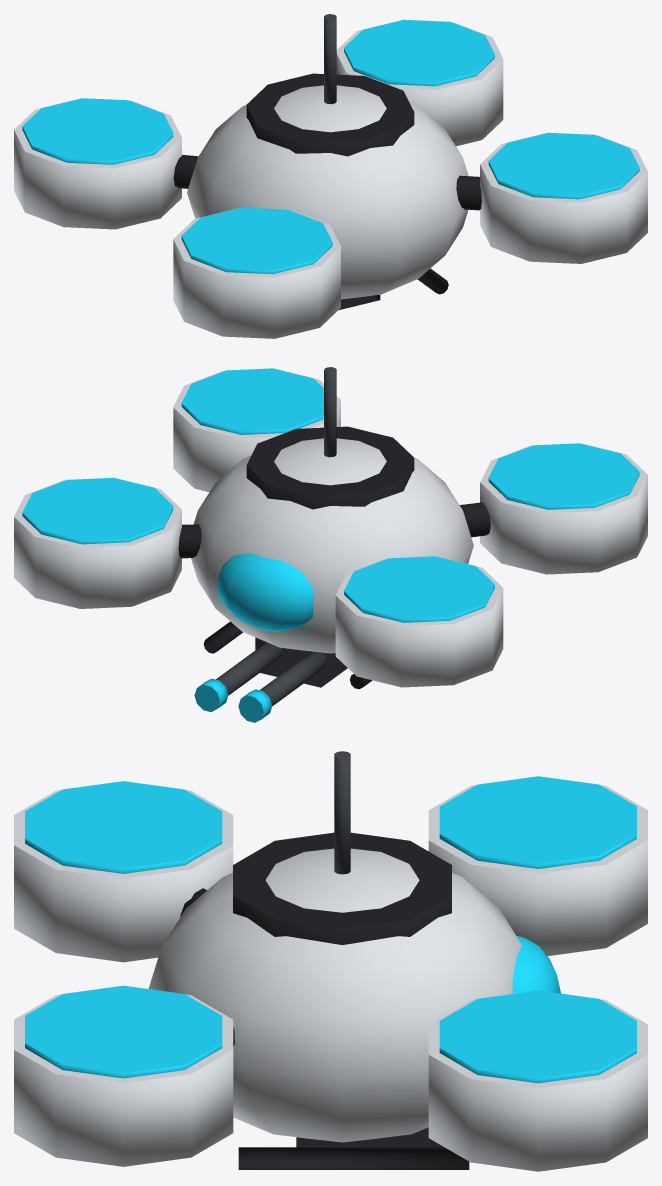
The model's file is Robot_Drone.obj.
3 views of the same model, one above another, from view 1: azimuth 30°, elevation 25°; view 2: azimuth 150°, elevation 25°; view 3: azimuth 270°, elevation 25° (orthographic). The views are drawn at different scales.
Parts seen in each view (by area): view 1: Robot_Drone; view 2: Robot_Drone; view 3: Robot_Drone.
Boxes of the visible parts, x1,y1,x2,y2 form: Robot_Drone: [14, 14, 647, 338]; Robot_Drone: [14, 367, 647, 722]; Robot_Drone: [14, 751, 647, 1171].
Bounding box in the file's own units: 1.28 × 0.73 × 1.1.
